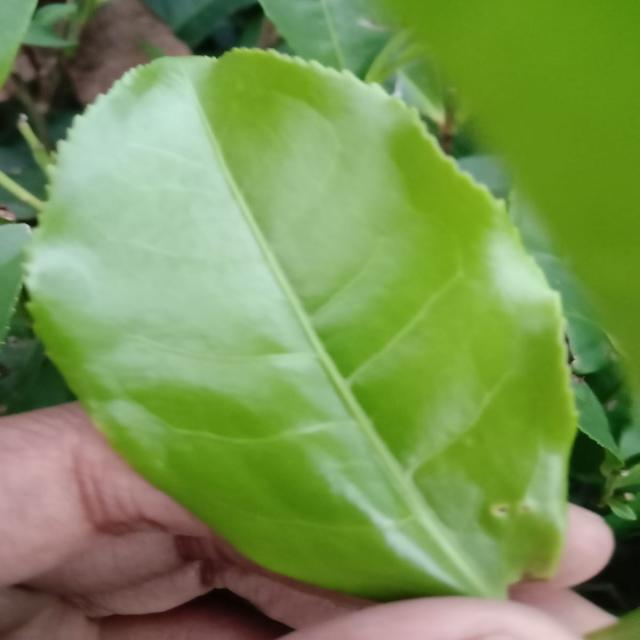Category C(4-7 days): (26, 33, 596, 624)
